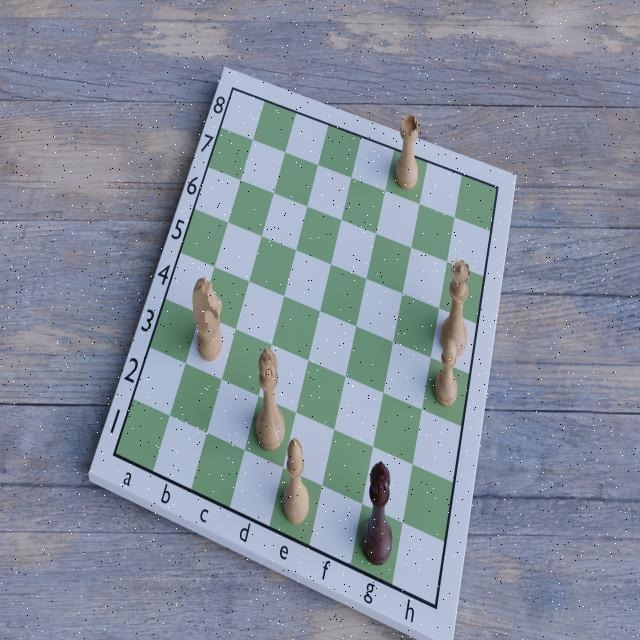black-king: (360, 461, 396, 571)
white-bishop: (280, 436, 311, 528)
white-king: (253, 344, 287, 451)
white-knight: (190, 275, 225, 365)
white-pawn: (430, 335, 461, 413)
white-queen: (439, 249, 473, 360)
white-rook: (393, 108, 421, 196)
